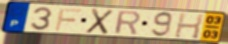3: (29, 6, 54, 31)
9: (149, 11, 174, 38)
F: (54, 8, 84, 32)
H: (173, 12, 206, 40)
R: (113, 10, 142, 36)
X: (84, 7, 116, 35)
